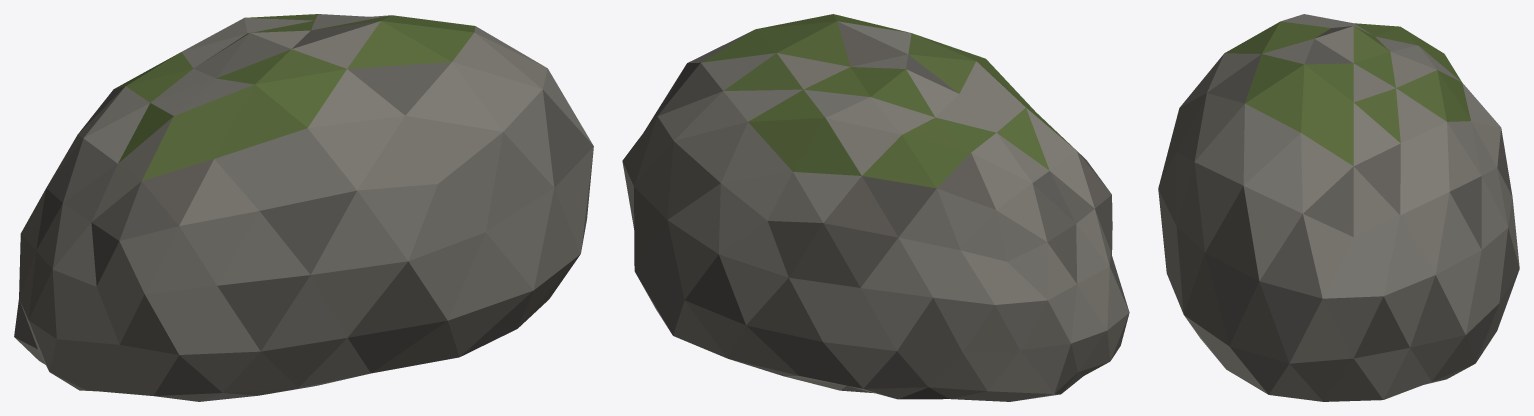
The model's file is cliff.glb.
The picture shows the model from 3 angles, left to right: view 1: azimuth 30°, elevation 25°; view 2: azimuth 150°, elevation 25°; view 3: azimuth 270°, elevation 25°; orthographic projection. The views are drawn at different scales.
Visible parts, largest first — view 1: cliff; view 2: cliff; view 3: cliff.
Boxes of the visible parts, <box> form: cliff: <box>14,14,593,401</box>; cliff: <box>622,14,1129,401</box>; cliff: <box>1158,14,1519,401</box>.
Bounding box in the file's own units: 11.96 × 7.2 × 7.99.
